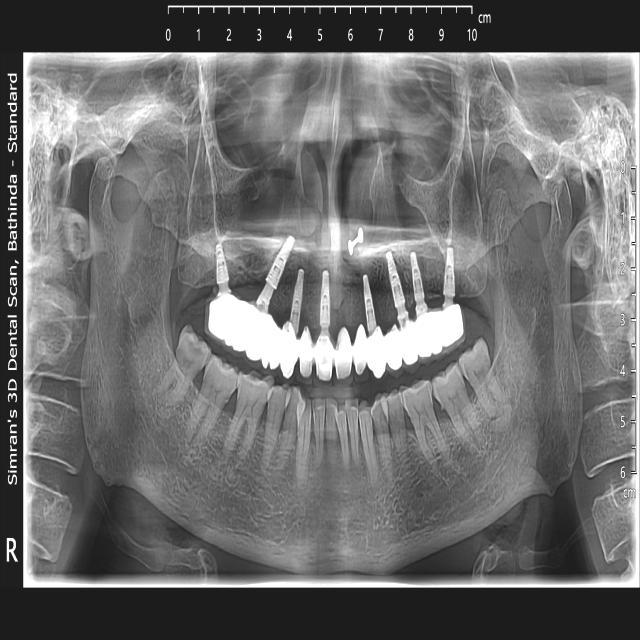Crown: (237, 296, 267, 356), (433, 303, 464, 354), (250, 319, 280, 370), (224, 294, 249, 352), (202, 290, 231, 339), (270, 324, 297, 376), (413, 311, 441, 361), (313, 333, 334, 382), (296, 328, 315, 380), (334, 328, 352, 380), (367, 330, 386, 377), (353, 319, 368, 378), (385, 327, 405, 370), (404, 318, 417, 367)
Implant: (385, 249, 412, 334), (264, 234, 295, 290), (411, 253, 430, 318), (289, 268, 304, 337), (318, 270, 333, 339), (362, 277, 378, 337), (443, 247, 456, 303), (217, 244, 230, 284)
Mandibular Canal: (117, 295, 246, 502), (427, 314, 551, 515)
maxillary sinus: (187, 106, 302, 271), (374, 110, 482, 273)
